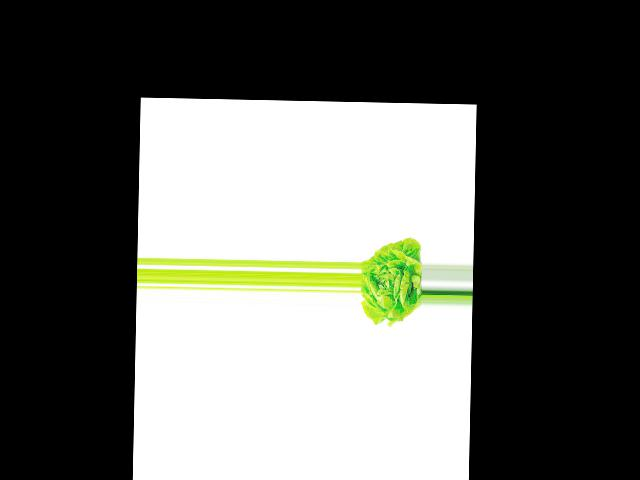lettuce: (360, 235, 423, 323)
